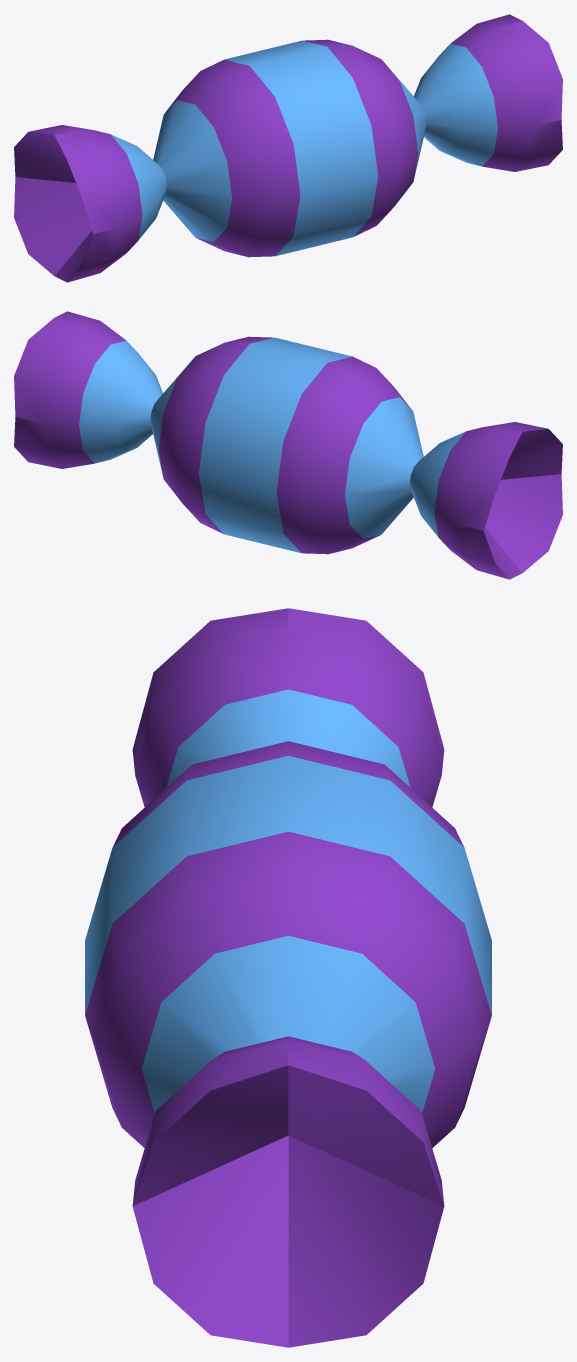
File: candyC.gltf.glb
The picture shows the model from 3 angles, top to bottom: view 1: azimuth 30°, elevation 25°; view 2: azimuth 150°, elevation 25°; view 3: azimuth 270°, elevation 25°; orthographic projection. The views are drawn at different scales.
Parts seen in each view (by area): view 1: candyC; view 2: candyC; view 3: candyC.
Part boxes in pixels (bbox=[...]): candyC: bbox=[14, 14, 562, 282]; candyC: bbox=[14, 311, 562, 579]; candyC: bbox=[85, 608, 491, 1347].
Size of the model in its own units: 0.9694 by 0.3546 by 0.3546.
